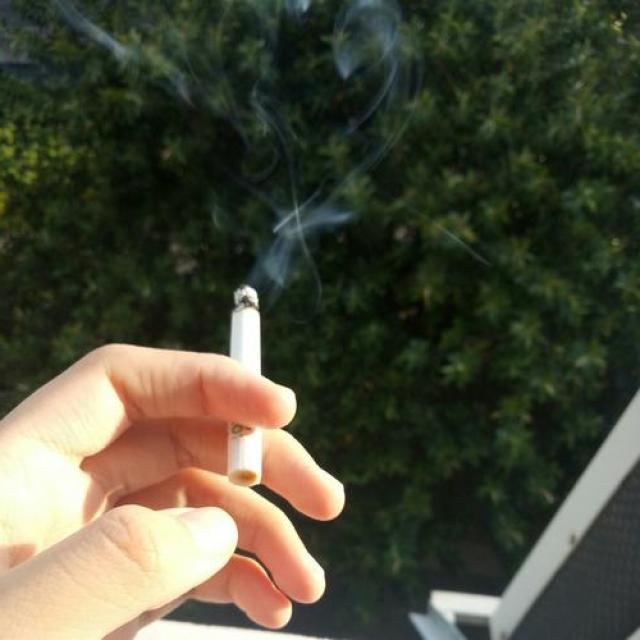smoking: (222, 278, 266, 492)
